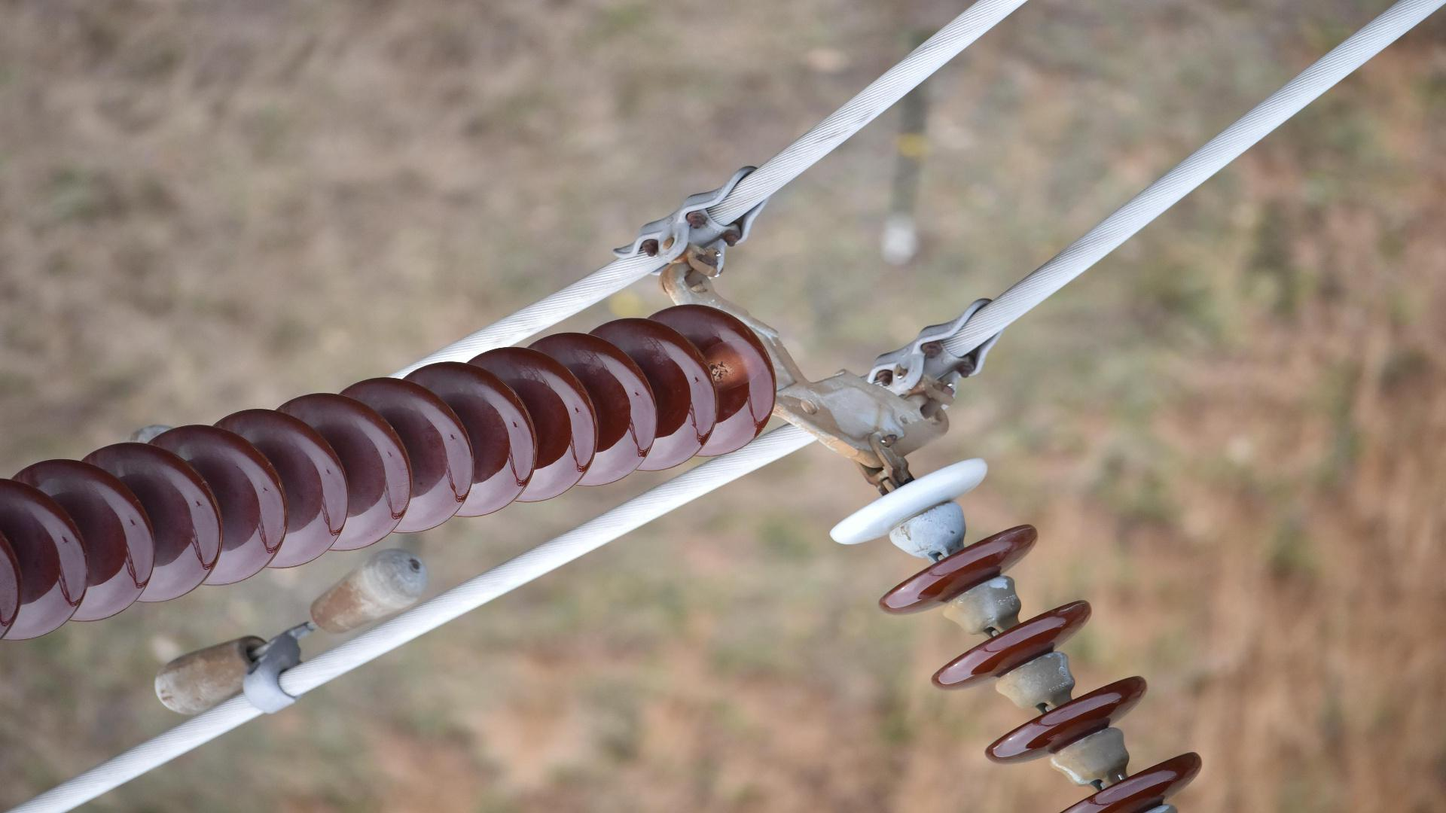insulator: (1, 300, 786, 647), (822, 452, 1205, 813)
insulator_flashover: (706, 346, 761, 390)
